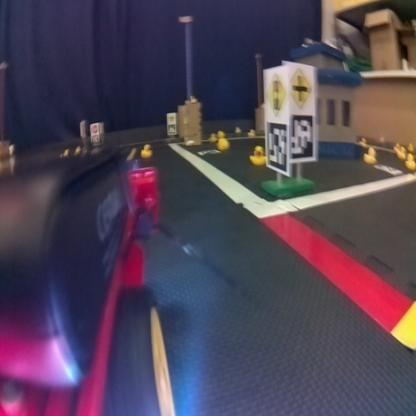duckie: (135, 134, 157, 160), (248, 142, 269, 166)
duckiebot: (0, 154, 162, 415)
